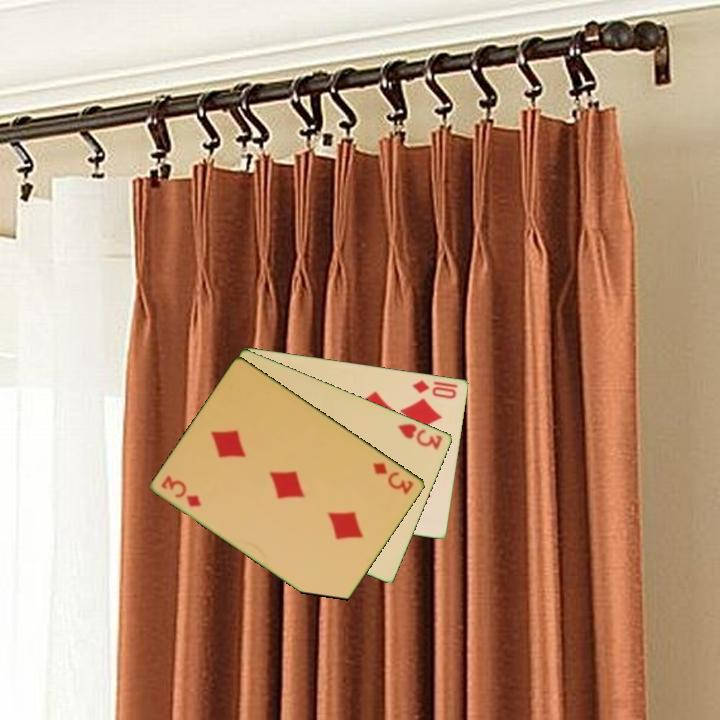10d: (409, 376, 460, 402)
3d: (369, 459, 417, 497), (158, 471, 204, 510)
3h: (394, 420, 446, 453)
